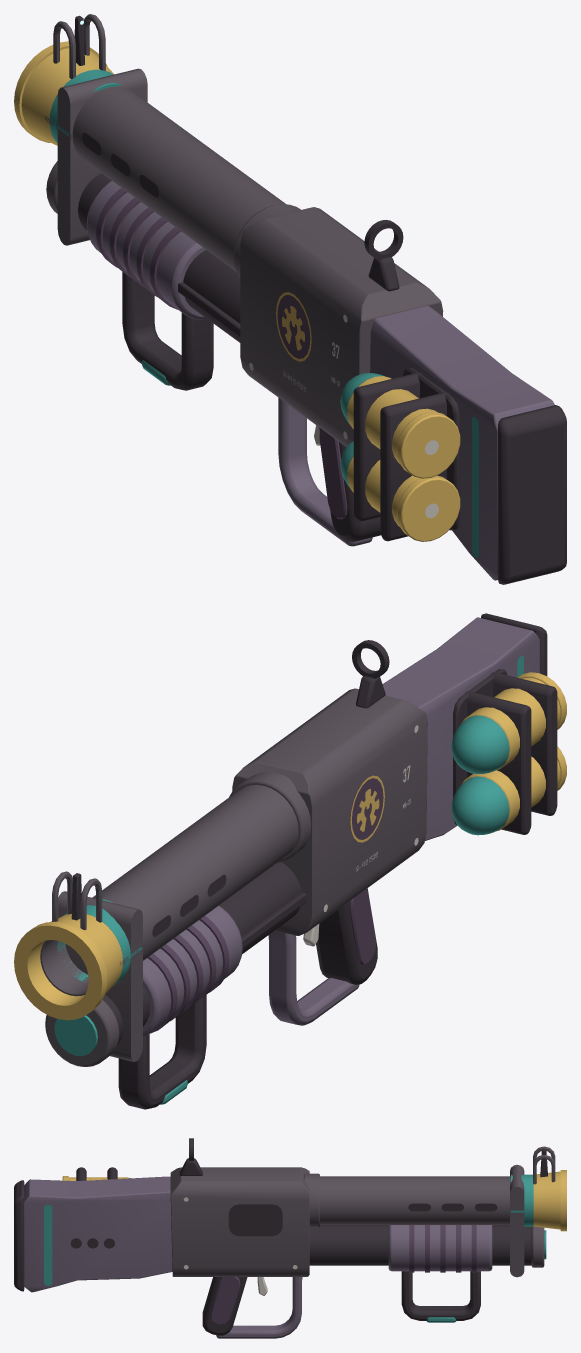
File: monatium_riot_launcher.glb
The picture shows the model from 3 angles, top to bottom: view 1: azimuth 30°, elevation 25°; view 2: azimuth 150°, elevation 25°; view 3: azimuth 270°, elevation 25°; orthographic projection. The views are drawn at different scales.
Visible parts, largest first — view 1: body, pump, body_fine; view 2: body, pump, body_fine; view 3: body, pump, body_fine.
Part boxes in pixels (left/top/right/bottom): body: left=14, top=14, right=566, bottom=584; pump: left=86, top=180, right=213, bottom=390; body_fine: left=45, top=20, right=478, bottom=558; body: left=14, top=613, right=566, bottom=1066; pump: left=118, top=905, right=242, bottom=1109; body_fine: left=120, top=655, right=523, bottom=965; body: left=14, top=1138, right=566, bottom=1338; pump: left=388, top=1225, right=492, bottom=1322; body_fine: left=44, top=1197, right=497, bottom=1285.
Bounding box in the file's own units: 0.091 × 0.2097 × 0.533.
